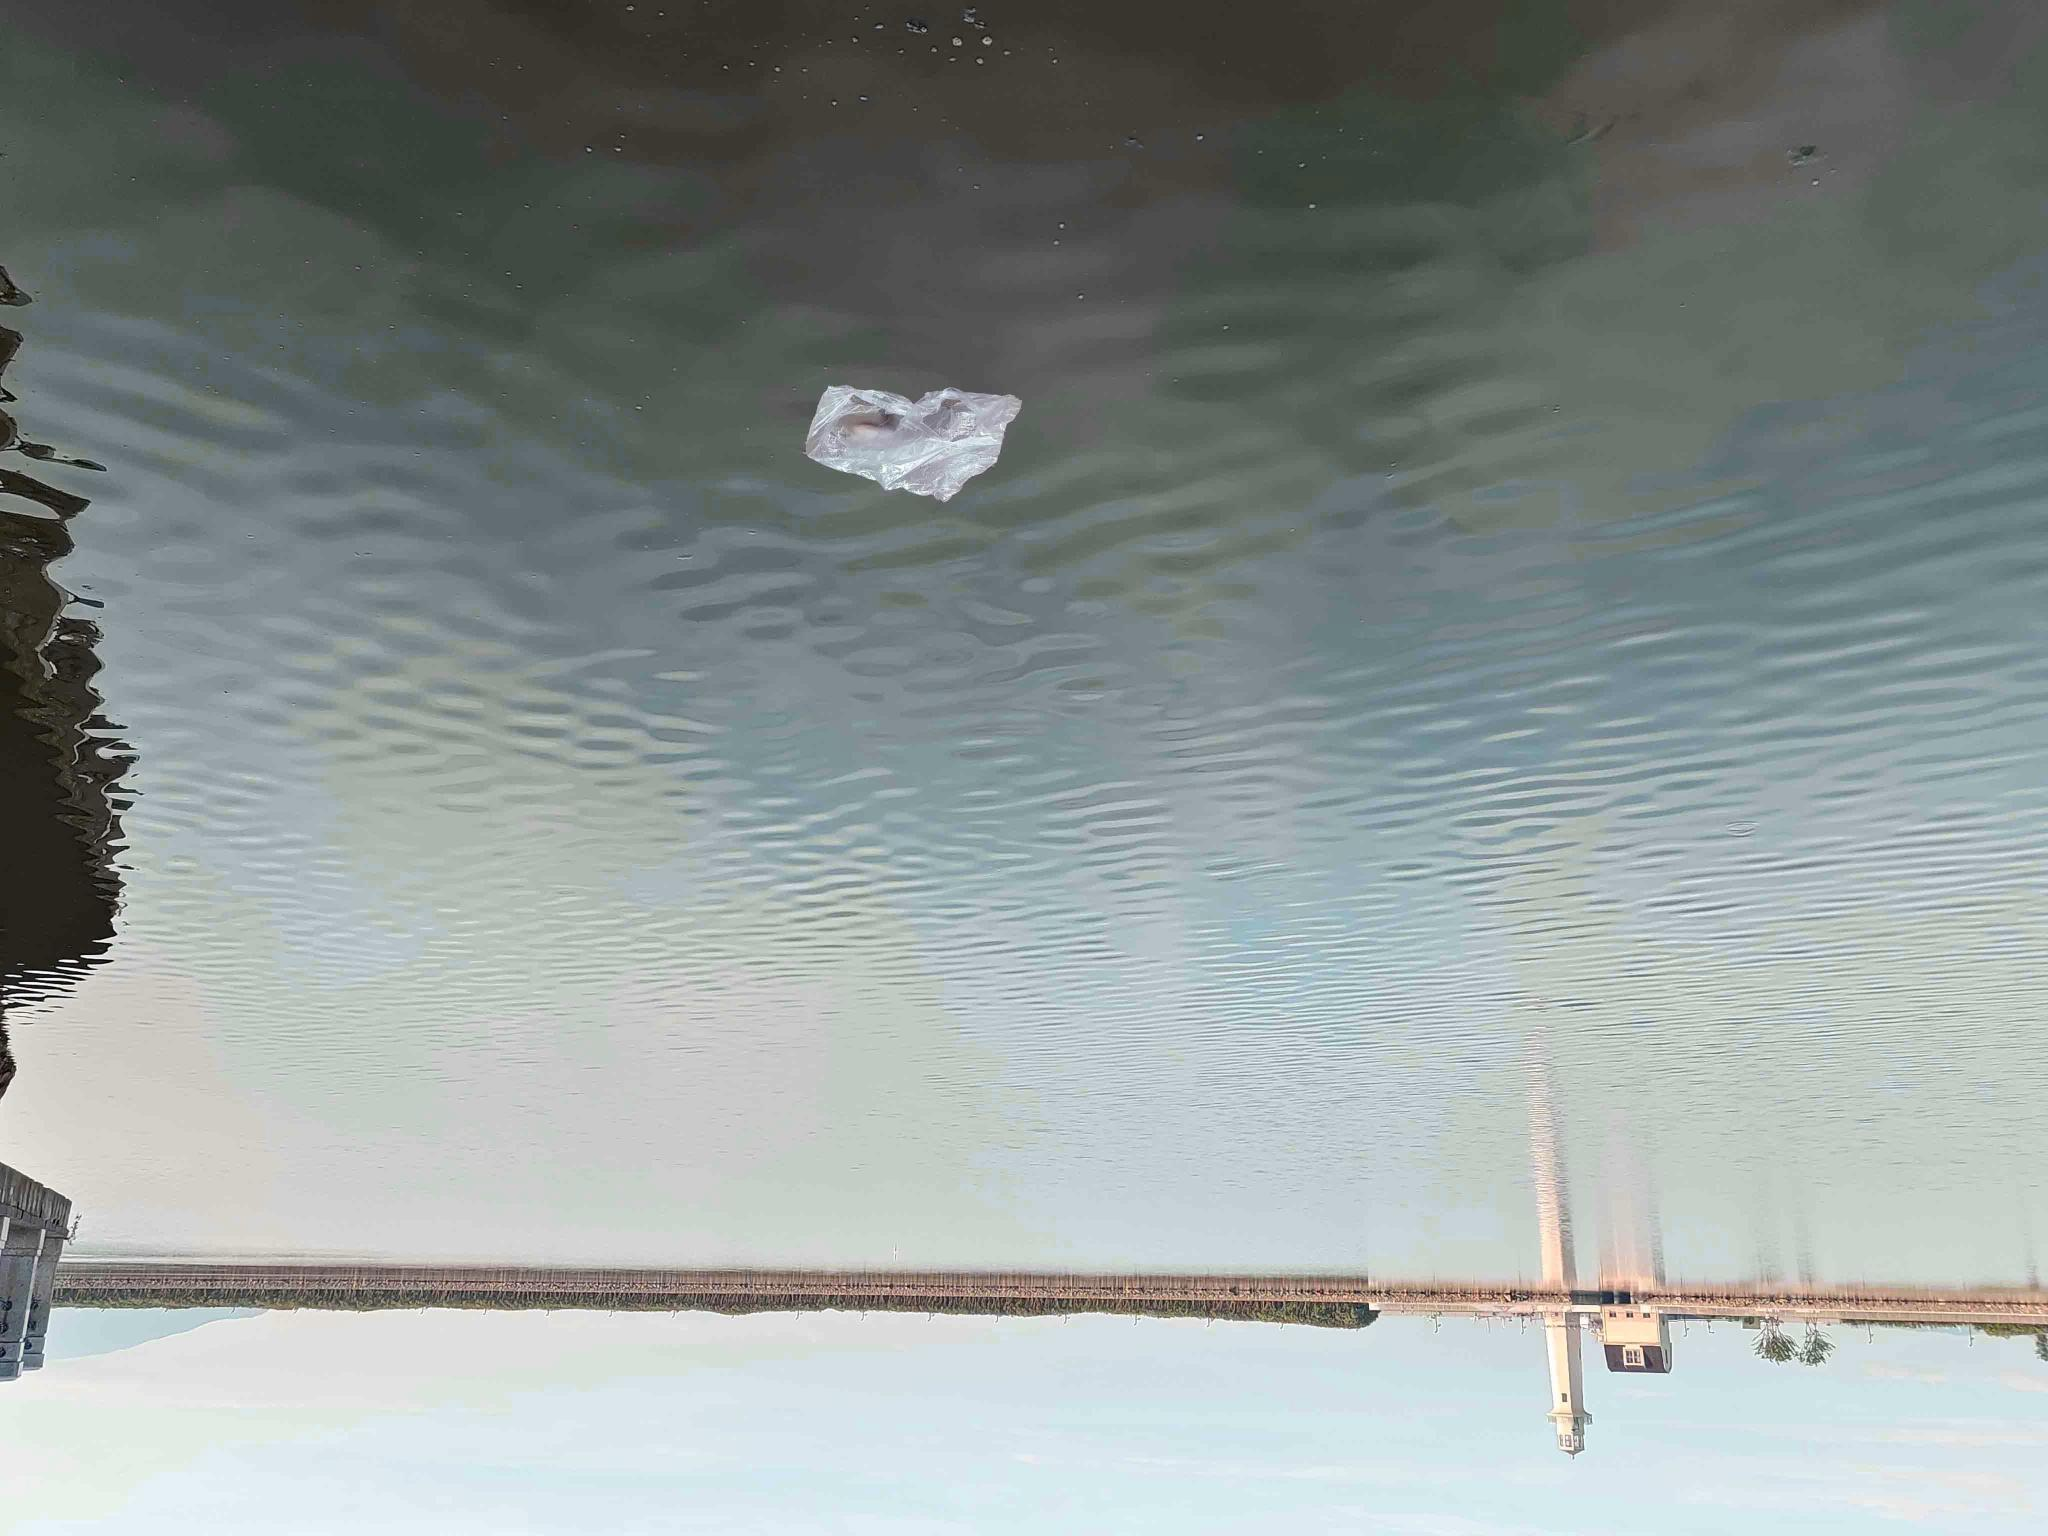Trash: (801, 384, 1024, 505)
